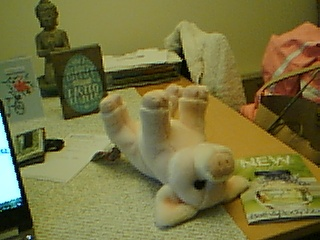piggy: (98, 82, 252, 229)
